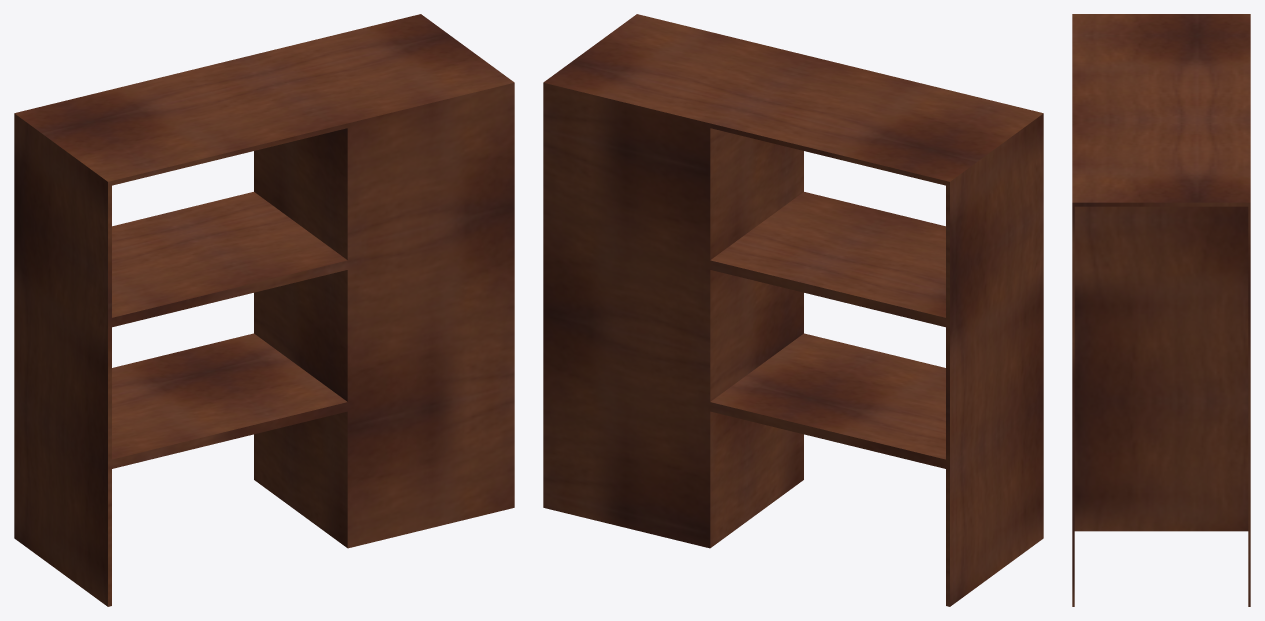
The model's file is LeftShelf_FBX.fbx.
The picture shows the model from 3 angles, left to right: view 1: azimuth 30°, elevation 25°; view 2: azimuth 150°, elevation 25°; view 3: azimuth 270°, elevation 25°; orthographic projection. The views are drawn at different scales.
Visible parts, largest first — view 1: pCube17; view 2: pCube17; view 3: pCube17.
Part boxes in pixels (bbox=[...]): pCube17: bbox=[14, 14, 514, 606]; pCube17: bbox=[543, 14, 1043, 606]; pCube17: bbox=[1072, 14, 1250, 606].
Size of the model in its own units: 10.01 by 10 by 4.
